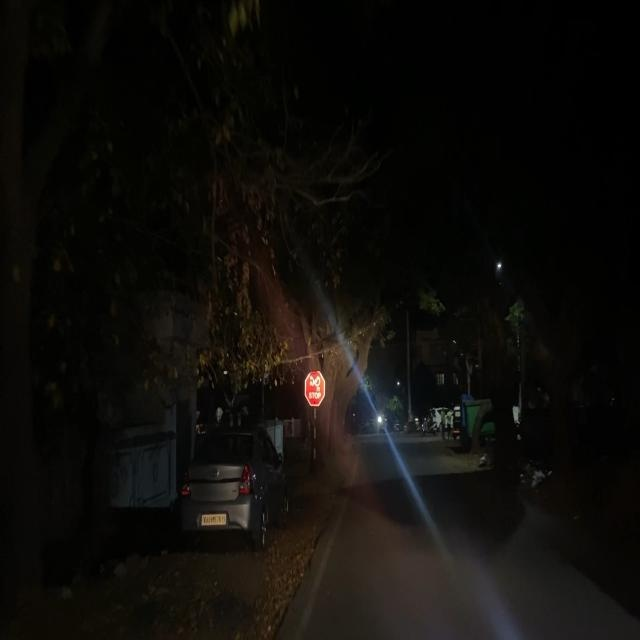bien_cam: (302, 368, 327, 408)
